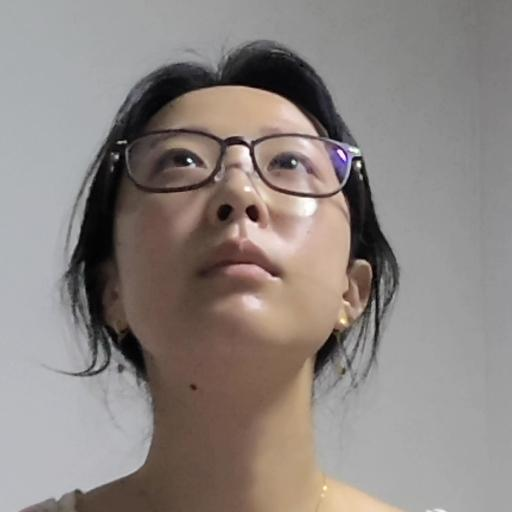no_glasses: (68, 47, 401, 380)
